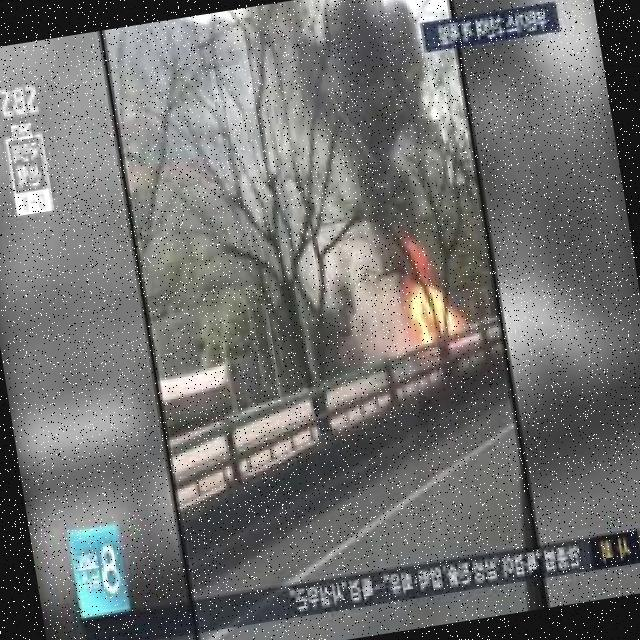Fire: (394, 248, 469, 351)
